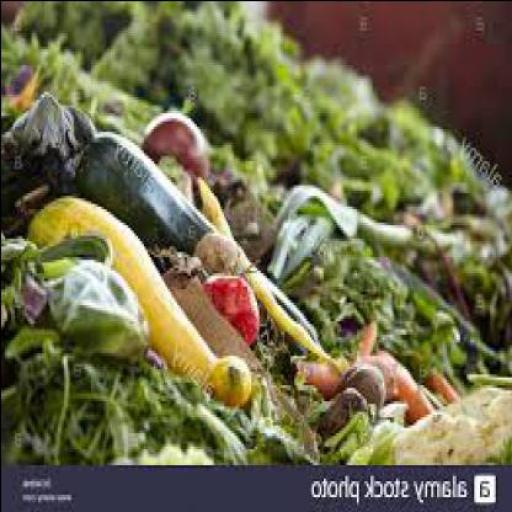biodegradable: (0, 1, 511, 458), (29, 189, 254, 403), (164, 262, 321, 456), (184, 175, 340, 360), (76, 125, 216, 248), (347, 368, 511, 460), (290, 346, 437, 424), (2, 90, 95, 200), (142, 101, 211, 189), (320, 360, 389, 429), (206, 270, 260, 338), (348, 320, 383, 362), (423, 368, 457, 400)
